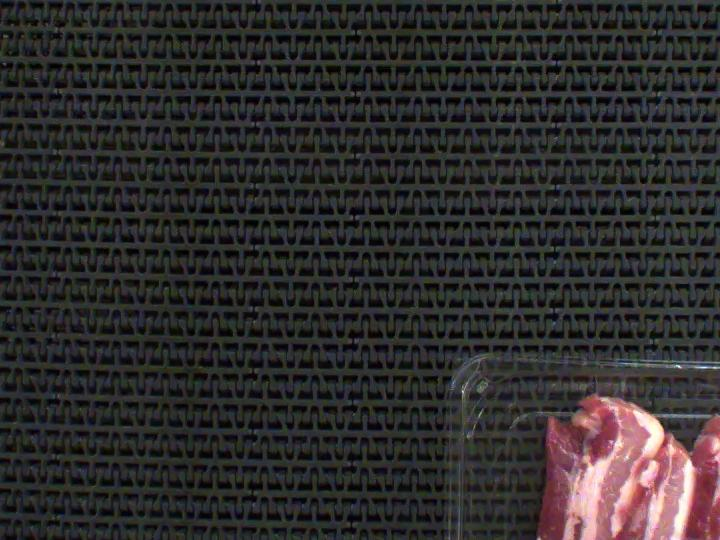packaging-error: (588, 373, 631, 408)
